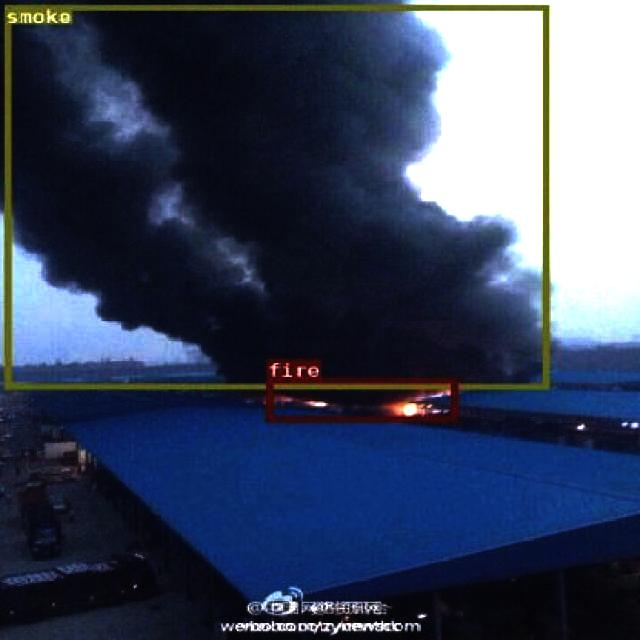fire: (266, 378, 457, 420)
smoke: (4, 5, 547, 388)
